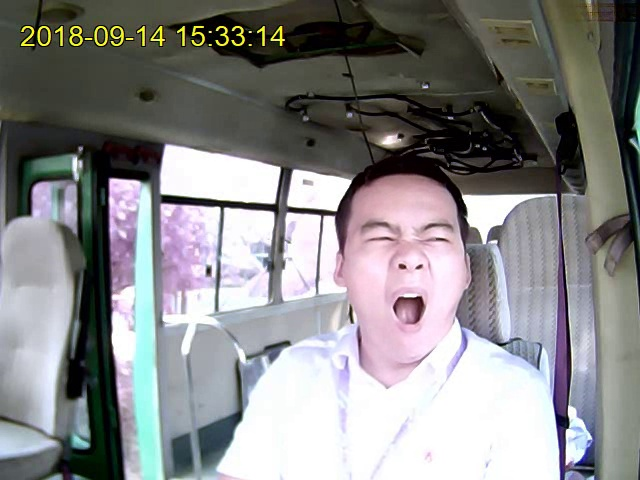open_mouth: (388, 282, 429, 334)
